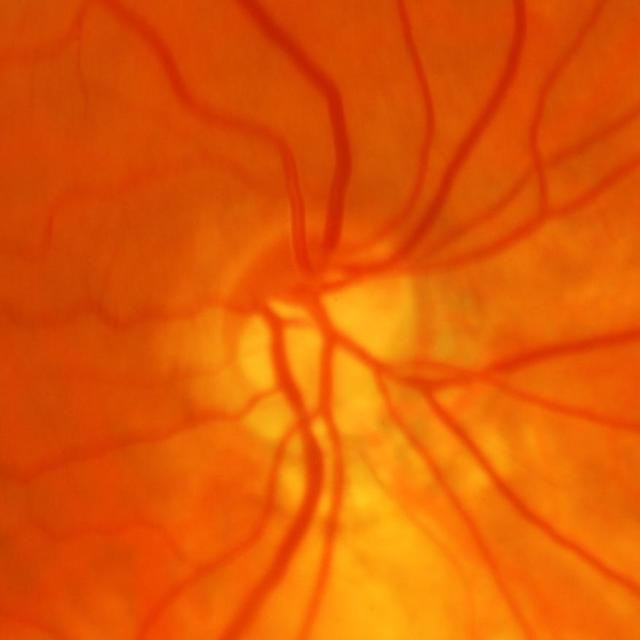OC: (232, 285, 357, 393)
OD: (207, 217, 424, 426)
